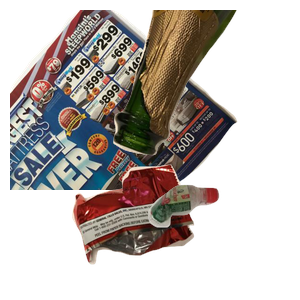glass: (111, 10, 300, 158)
paper: (10, 10, 240, 190)
plastic: (146, 182, 300, 300)
trash: (70, 162, 257, 300)
